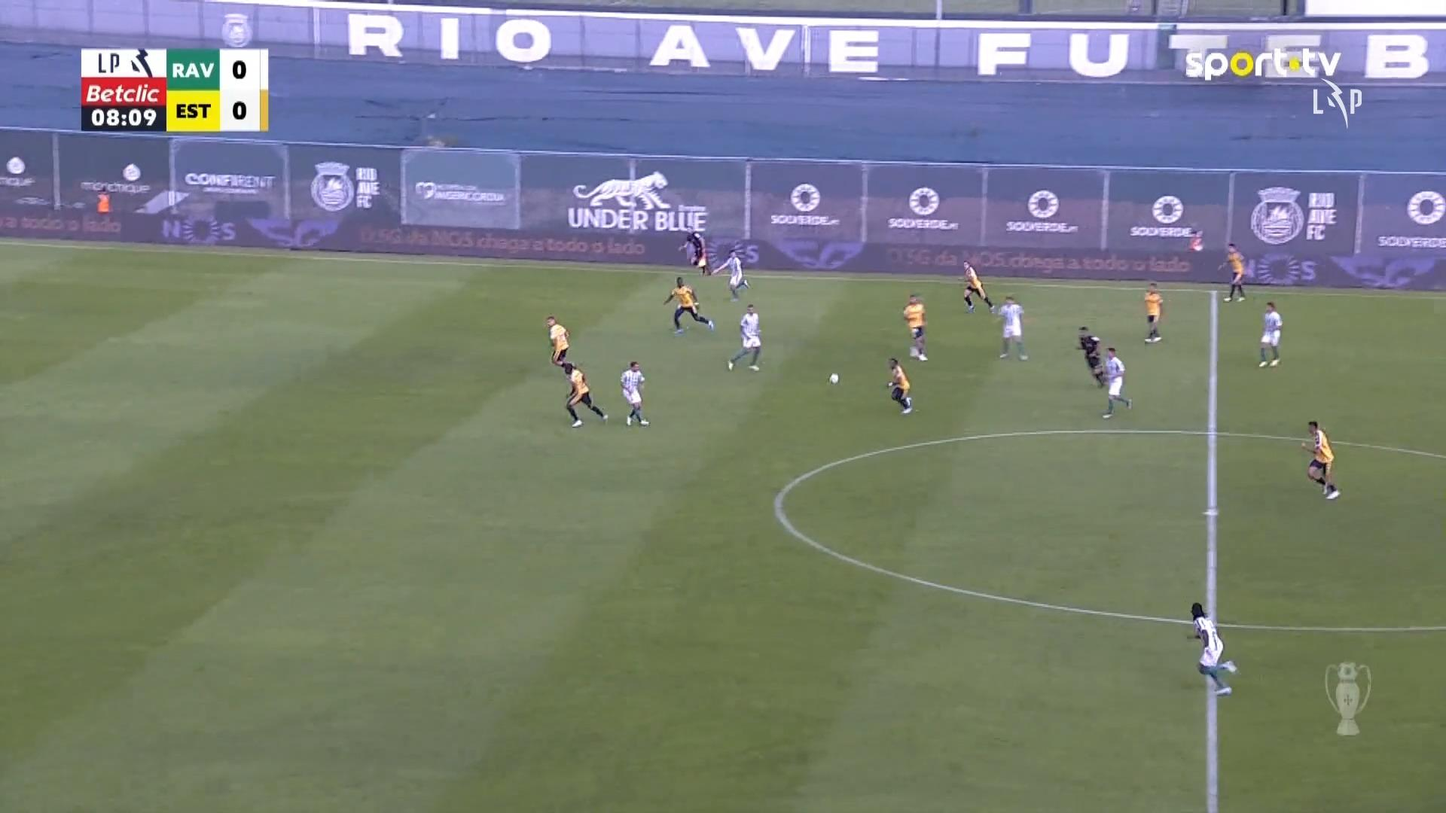ball: (828, 373, 838, 384)
player: (1188, 601, 1237, 695), (555, 358, 608, 428), (1300, 419, 1340, 499), (662, 276, 714, 334), (725, 303, 762, 371), (992, 294, 1028, 360), (1100, 346, 1131, 418), (710, 248, 749, 302), (619, 360, 648, 425), (901, 293, 928, 361), (961, 258, 994, 313), (1257, 300, 1283, 367), (1217, 242, 1246, 302), (886, 357, 912, 414), (1142, 281, 1163, 343), (544, 314, 569, 365)
referee: (1076, 324, 1105, 387), (677, 227, 710, 276)
